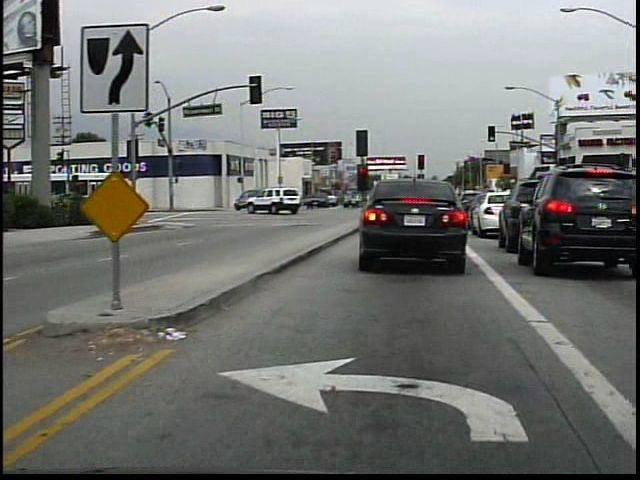person: (95, 189, 115, 225)
